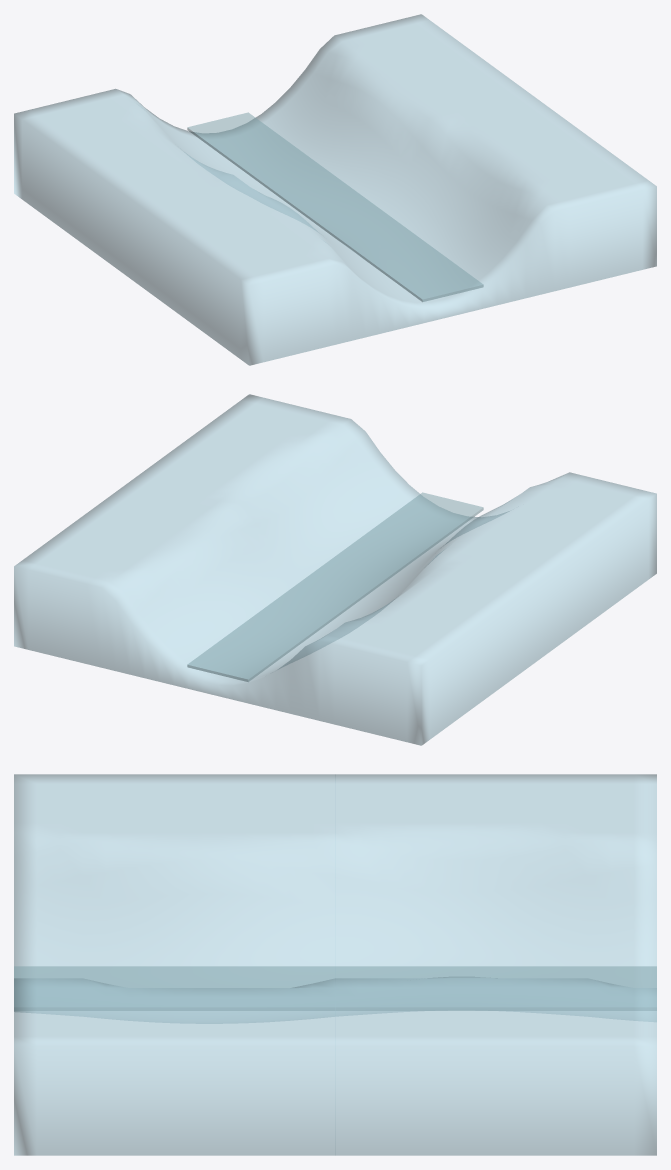
The model's file is alpine-and-arctic-biomes-supraglacial-channel-7cbb013b__21058.glb.
3 views of the same model, one above another, from view 1: azimuth 30°, elevation 25°; view 2: azimuth 150°, elevation 25°; view 3: azimuth 270°, elevation 25° (orthographic). The views are drawn at different scales.
Parts seen in each view (by area): view 1: supraglacial-channel; view 2: supraglacial-channel; view 3: supraglacial-channel.
Boxes of the visible parts, bbox=[...] form: supraglacial-channel: bbox=[14, 14, 656, 365]; supraglacial-channel: bbox=[14, 394, 656, 745]; supraglacial-channel: bbox=[14, 774, 656, 1155].
Bounding box in the file's own units: 4 × 0.75 × 4.
